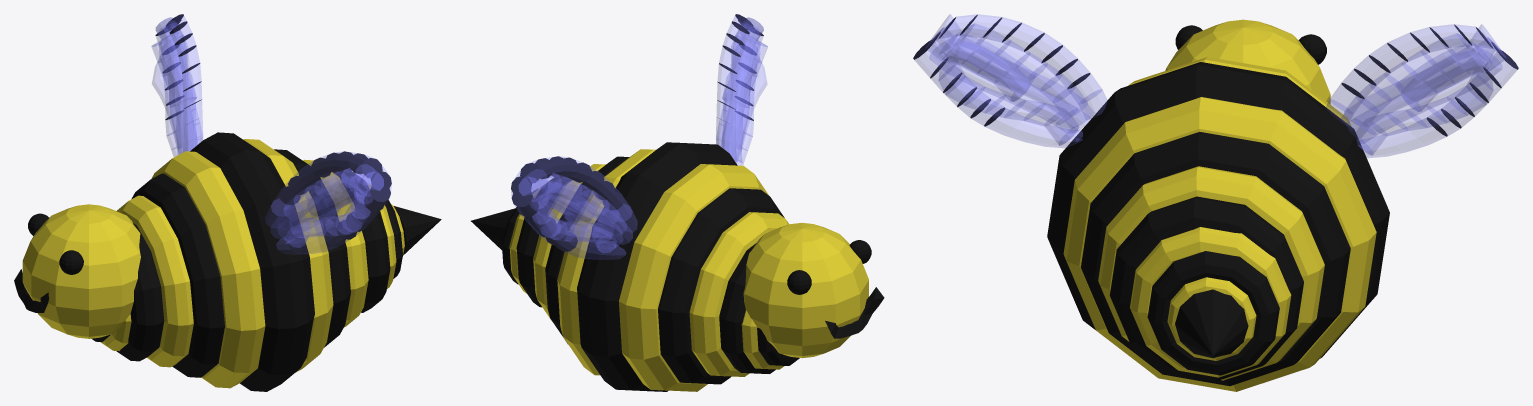
The picture shows the model from 3 angles, left to right: view 1: azimuth 30°, elevation 25°; view 2: azimuth 150°, elevation 25°; view 3: azimuth 270°, elevation 25°; orthographic projection. The views are drawn at different scales.
Parts seen in each view (by area): view 1: node_MeshObject-883152896-PolyPaper12, node_MeshObject383204352-PolyGlass24; view 2: node_MeshObject-883152896-PolyPaper12, node_MeshObject383204352-PolyGlass24; view 3: node_MeshObject-883152896-PolyPaper12, node_MeshObject383204352-PolyGlass24.
Boxes of the visible parts, left/top/right/bottom form: node_MeshObject-883152896-PolyPaper12: left=14, top=14, right=441, bottom=391; node_MeshObject383204352-PolyGlass24: left=151, top=14, right=391, bottom=253; node_MeshObject-883152896-PolyPaper12: left=471, top=14, right=884, bottom=391; node_MeshObject383204352-PolyGlass24: left=511, top=14, right=767, bottom=259; node_MeshObject-883152896-PolyPaper12: left=913, top=14, right=1518, bottom=391; node_MeshObject383204352-PolyGlass24: left=913, top=14, right=1518, bottom=157.
Bounding box in the file's own units: 1.7 × 1.16 × 1.67.
